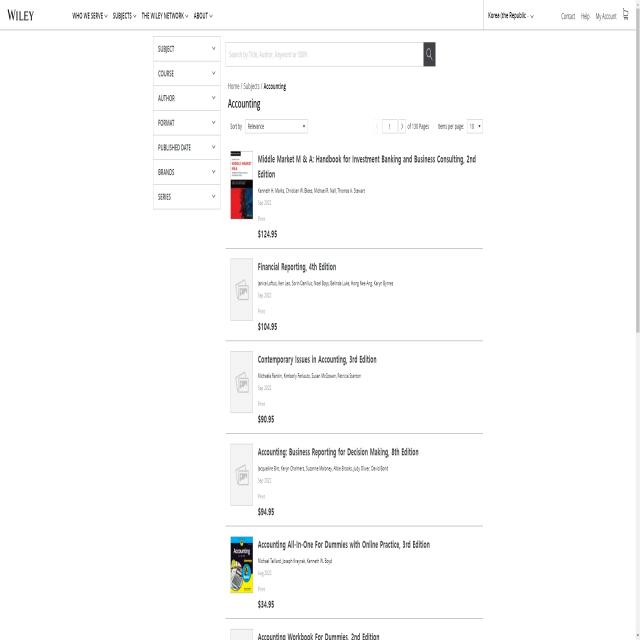menu-panel: (154, 36, 218, 216)
search: (225, 39, 435, 65)
